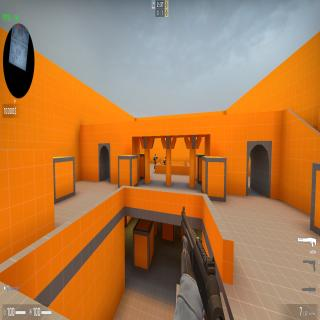T-Body: (163, 157, 166, 165), (154, 154, 156, 164)
T-Head: (165, 156, 166, 160), (155, 154, 156, 156)
